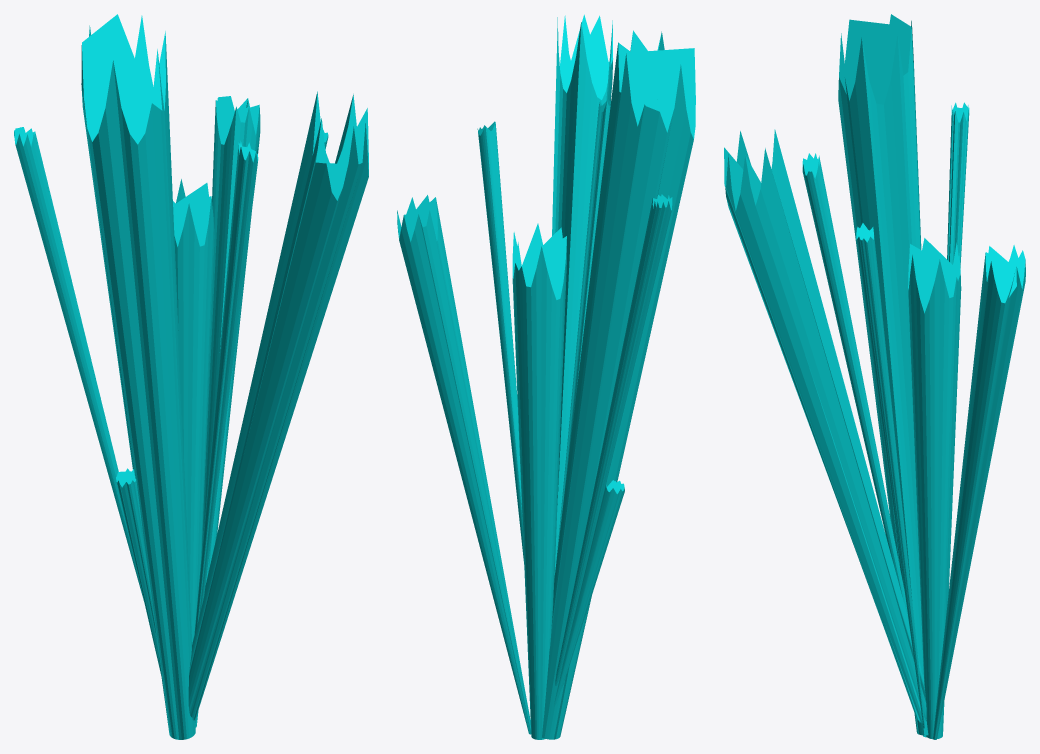
Rendered from sarkt_2.fbx.
3 views of the same model, side by side, from view 1: azimuth 30°, elevation 25°; view 2: azimuth 150°, elevation 25°; view 3: azimuth 270°, elevation 25° (orthographic). The views are drawn at different scales.
Parts seen in each view (by area): view 1: Cylinder.006, Cylinder.007, Cylinder, Cylinder.004, Cylinder.010, Cylinder.008, Cylinder.005; view 2: Cylinder.006, Cylinder, Cylinder.004, Cylinder.007, Cylinder.010, Cylinder.011, Cylinder.008, Cylinder.005; view 3: Cylinder.007, Cylinder.006, Cylinder, Cylinder.004, Cylinder.008, Cylinder.011, Cylinder.010.
Part boxes in pixels (x1,y1,x2,y2): Cylinder.006: [81, 14, 195, 739]; Cylinder.007: [188, 91, 368, 720]; Cylinder: [173, 179, 214, 644]; Cylinder.004: [195, 96, 260, 727]; Cylinder.010: [14, 127, 143, 600]; Cylinder.008: [194, 141, 258, 636]; Cylinder.005: [116, 468, 161, 674]; Cylinder.006: [542, 30, 695, 739]; Cylinder: [512, 223, 566, 739]; Cylinder.004: [397, 195, 530, 734]; Cylinder.007: [552, 14, 613, 574]; Cylinder.010: [555, 194, 672, 685]; Cylinder.011: [477, 121, 524, 564]; Cylinder.008: [556, 99, 610, 560]; Cylinder.005: [545, 480, 624, 738]; Cylinder.007: [724, 129, 926, 737]; Cylinder.006: [838, 14, 928, 735]; Cylinder: [908, 238, 961, 739]; Cylinder.004: [933, 245, 1025, 739]; Cylinder.008: [802, 153, 909, 626]; Cylinder.011: [856, 223, 924, 728]; Cylinder.010: [947, 102, 969, 268].
Bounding box in the file's own units: 853 × 2287 × 925.
